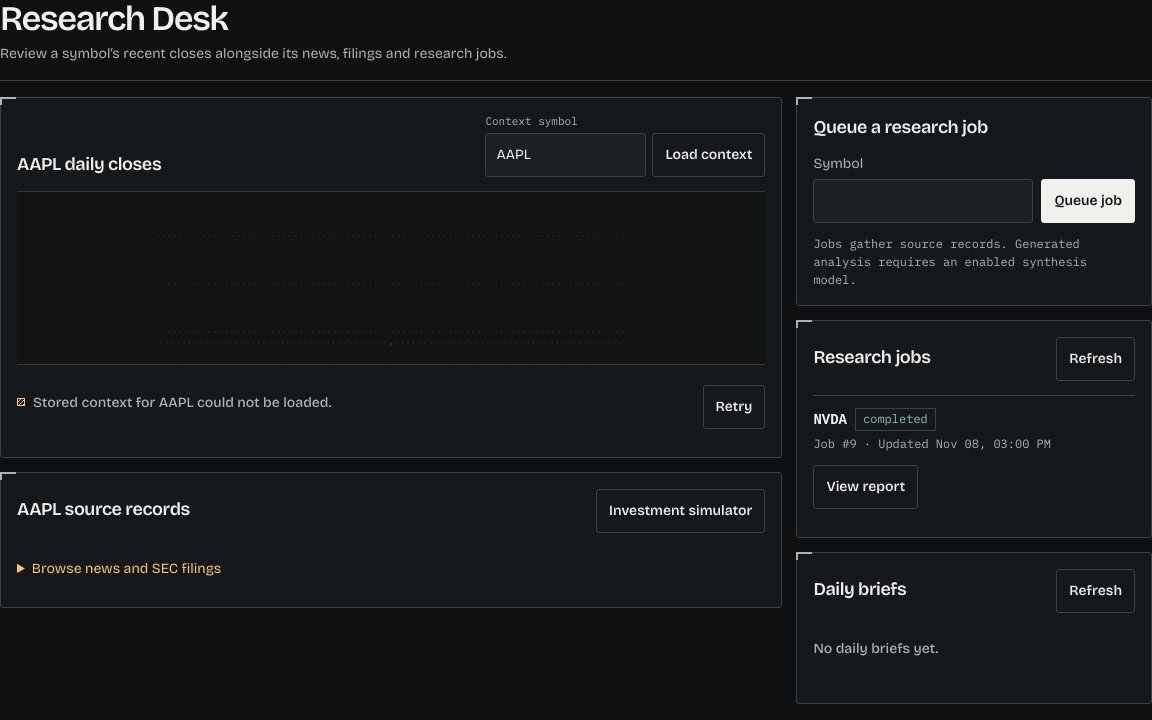
Scenario: Research desk › test_view_report_handles_a_report_not_yet_in_the_list
Click the button "View report" at (866, 487), box [813,465,918,509]
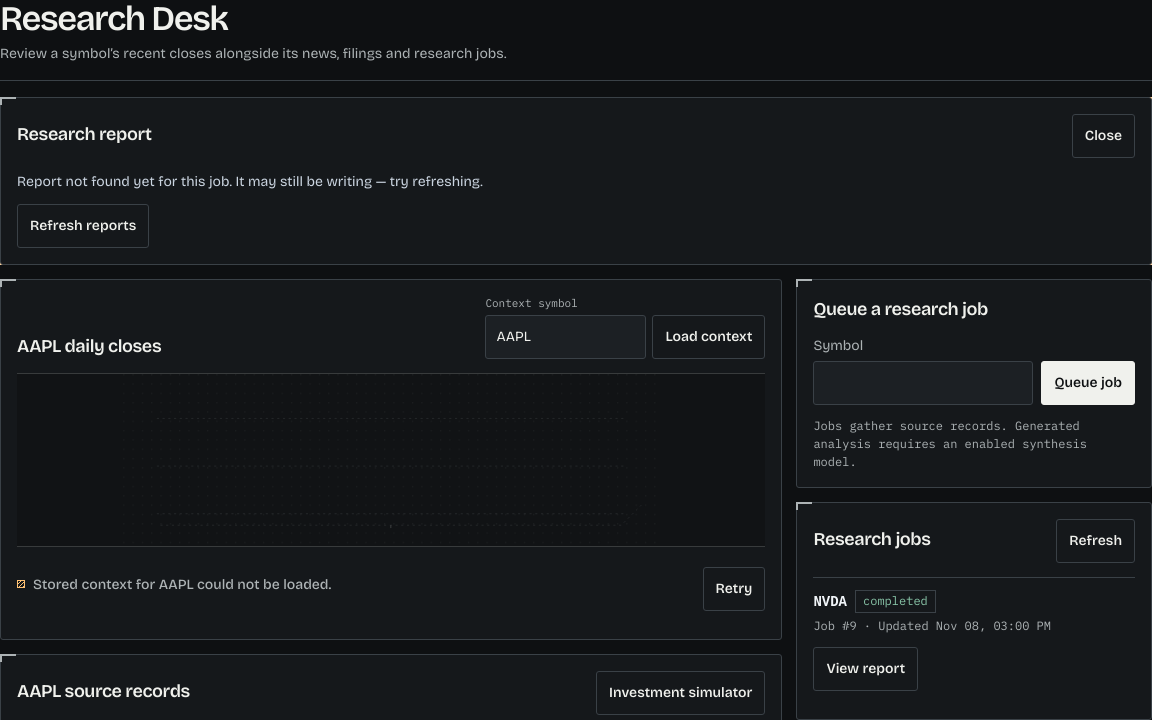
Check: the text "Report not found yet for this job. It may still be writing — try refreshing." is shown, box [17,173,483,190]
Check: the heading "Research report" is shown, box [17,121,152,147]
